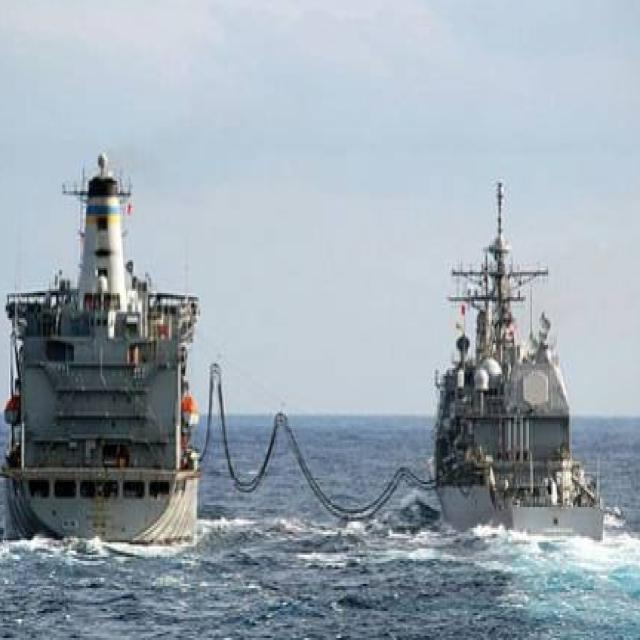navalvessels: (0, 156, 258, 557), (385, 216, 599, 560)
